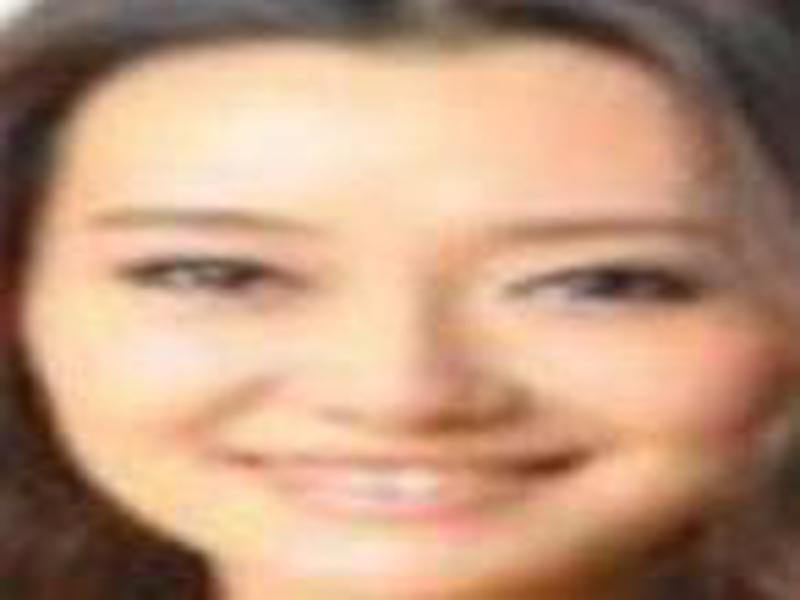without_mask: (29, 53, 753, 584)
